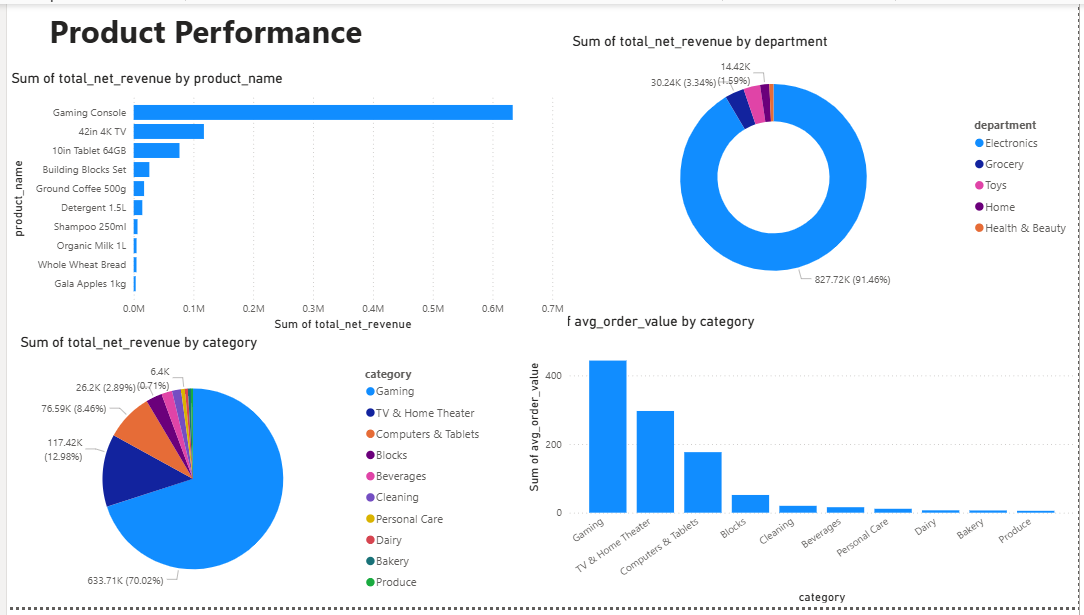

Layout of this report page (visuals, bound fields, positions):
{"tool":"powerbi","page":{"name":"Product Performance","canvas":[1280,720],"ordinal":2},"visuals":[{"type":"clusteredColumnChart","fields":{"Category":["`dbt_tuto_prod` `gold` `gold_sales_by_product`.category"],"Y":["Sum(`dbt_tuto_prod` `gold` `gold_sales_by_product`.avg_order_value)"]},"box":[616.4,369.1,663,351.2],"z":0},{"type":"pieChart","fields":{"Category":["`dbt_tuto_prod` `gold` `gold_sales_by_product`.category"],"Y":["Sum(`dbt_tuto_prod` `gold` `gold_sales_by_product`.total_net_revenue)"]},"box":[10.8,394.2,568,326.1],"z":1},{"type":"textbox","box":[10.8,1.8,453.3,59.1],"z":2},{"type":"clusteredBarChart","fields":{"Category":["`dbt_tuto_prod` `gold` `gold_sales_by_product`.product_name"],"Y":["Sum(`dbt_tuto_prod` `gold` `gold_sales_by_product`.total_net_revenue)"]},"box":[0,78.8,670.2,315.4],"z":3},{"type":"donutChart","fields":{"Category":["`dbt_tuto_prod` `gold` `gold_sales_by_product`.department"],"Y":["Sum(`dbt_tuto_prod` `gold` `gold_sales_by_product`.total_net_revenue)"]},"box":[670.2,34,609.2,326.1],"z":4}]}

Visuals, with their boxes in screenshot pixels (x1, y1, x2, y2), scaled from the page's 1280x720 canvas onto the 1084x615 screenshot:
clusteredColumnChart - `dbt_tuto_prod` `gold` `gold_sales_by_product`.category x Sum(`dbt_tuto_prod` `gold` `gold_sales_by_product`.avg_order_value): 522, 315, 1083, 614
pieChart - `dbt_tuto_prod` `gold` `gold_sales_by_product`.category x Sum(`dbt_tuto_prod` `gold` `gold_sales_by_product`.total_net_revenue): 9, 337, 490, 614
textbox: 9, 2, 393, 52
clusteredBarChart - `dbt_tuto_prod` `gold` `gold_sales_by_product`.product_name x Sum(`dbt_tuto_prod` `gold` `gold_sales_by_product`.total_net_revenue): 0, 67, 568, 337
donutChart - `dbt_tuto_prod` `gold` `gold_sales_by_product`.department x Sum(`dbt_tuto_prod` `gold` `gold_sales_by_product`.total_net_revenue): 568, 29, 1083, 308
